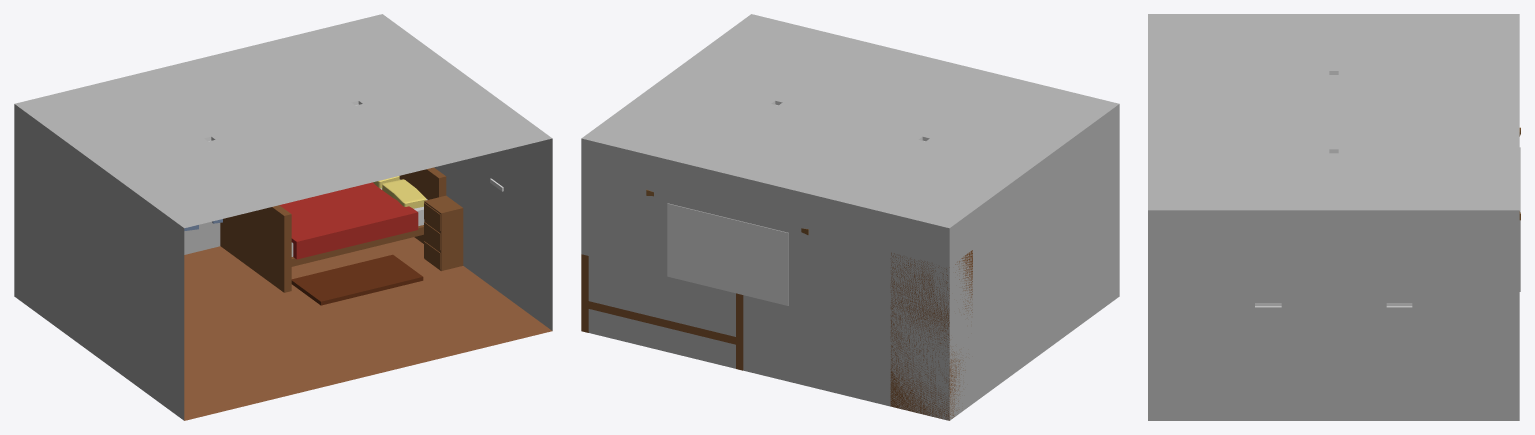
The model's file is Schlafzimmer.fbx.
The picture shows the model from 3 angles, left to right: view 1: azimuth 30°, elevation 25°; view 2: azimuth 150°, elevation 25°; view 3: azimuth 270°, elevation 25°; orthographic projection. The views are drawn at different scales.
Visible parts, largest first — view 1: Schlafzimmer, Bett_Decke, Bett_Pfosten, Vorleger, Nachttisch, Bett_Auflage, Bett_Kissen_1; view 2: Schlafzimmer, Buecherregal, Bett_Auflage, Bett_Pfosten; view 3: Schlafzimmer.
Boxes of the visible parts, x1,y1,x2,y2 form: Schlafzimmer: (14, 14, 552, 420); Bett_Decke: (279, 182, 418, 259); Bett_Pfosten: (220, 167, 446, 292); Vorleger: (291, 254, 423, 305); Nachttisch: (424, 195, 463, 270); Bett_Auflage: (291, 225, 423, 266); Bett_Kissen_1: (382, 179, 426, 208); Schlafzimmer: (581, 14, 1119, 420); Buecherregal: (890, 250, 972, 420); Bett_Auflage: (588, 301, 735, 344); Bett_Pfosten: (581, 254, 743, 370); Schlafzimmer: (1148, 14, 1520, 420).
Size of the model in its own units: 500 by 250 by 401.
